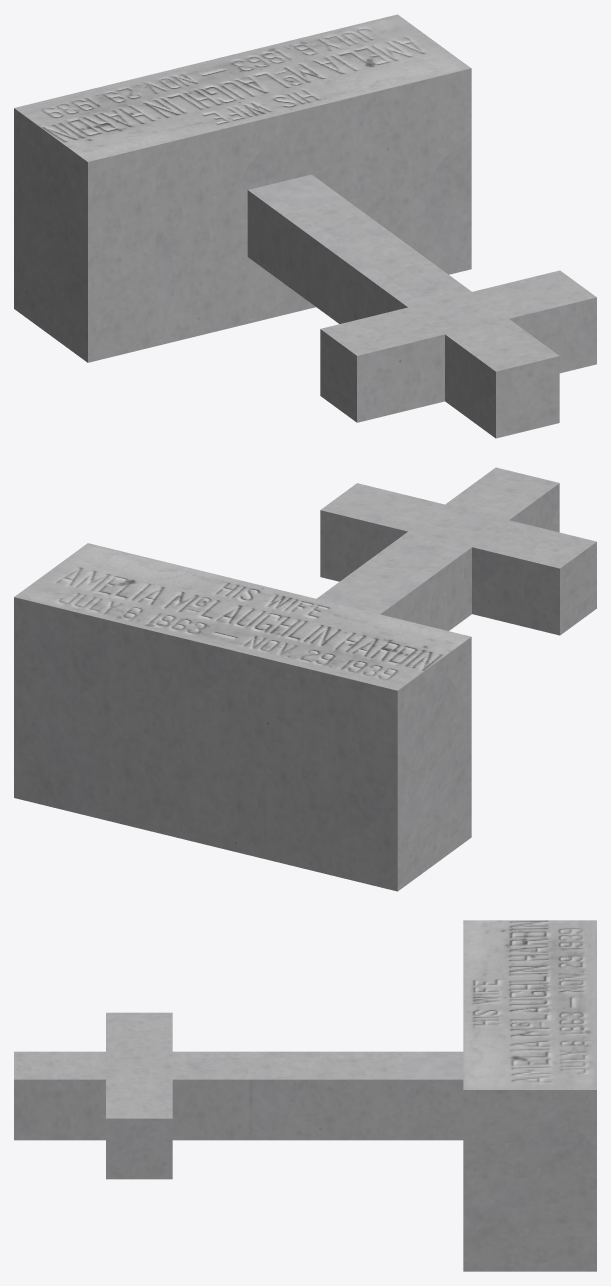
3 renders of one model, top to bottom at view 1: azimuth 30°, elevation 25°; view 2: azimuth 150°, elevation 25°; view 3: azimuth 270°, elevation 25°, orthographic. The views are drawn at different scales.
Visible parts, largest first — view 1: PA-427-F; view 2: PA-427-F; view 3: PA-427-F.
Boxes of the visible parts, x1,y1,x2,y2 form: PA-427-F: (14, 14, 596, 438); PA-427-F: (14, 467, 596, 891); PA-427-F: (14, 920, 596, 1271).
Size of the model in its own units: 122 by 60.96 by 177.
